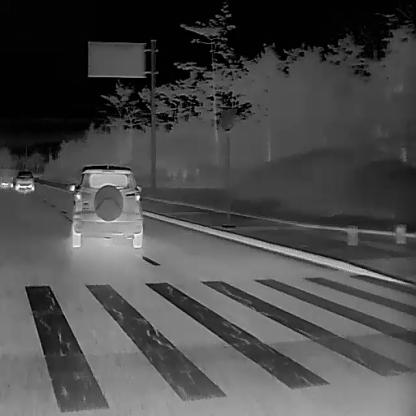car: (67, 164, 142, 247), (14, 170, 34, 192)
